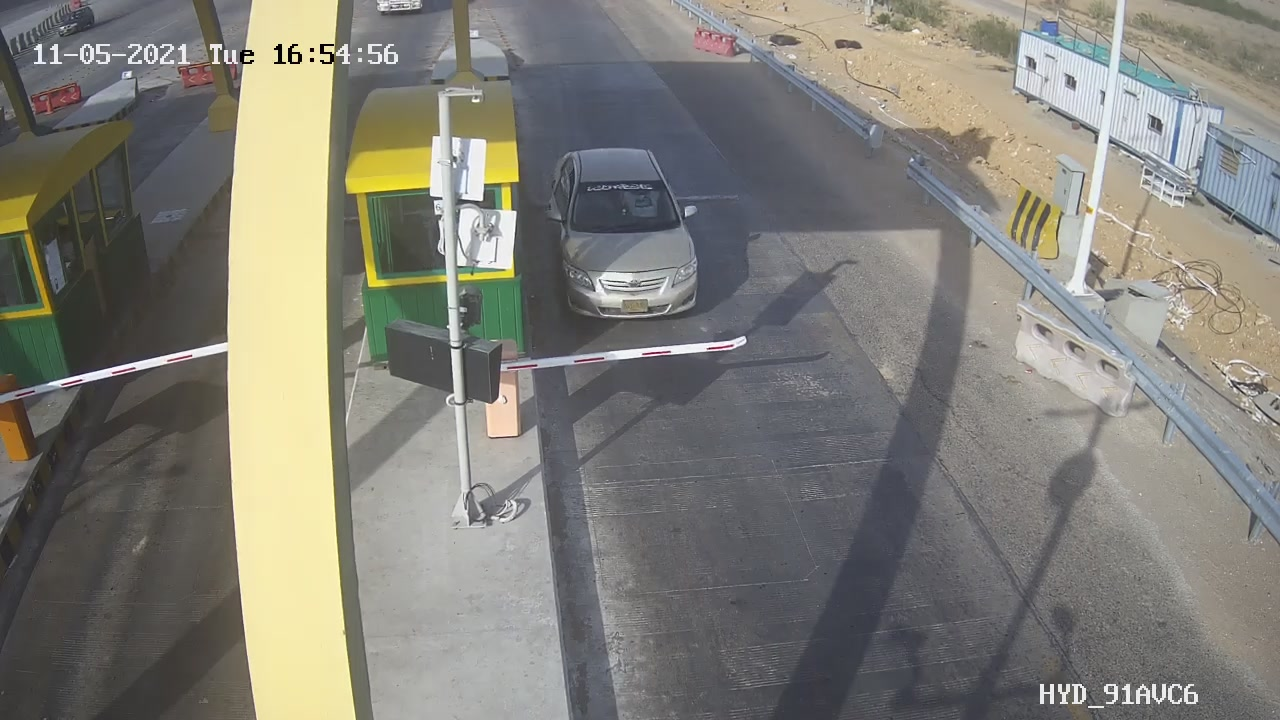F1: (530, 130, 729, 338)
